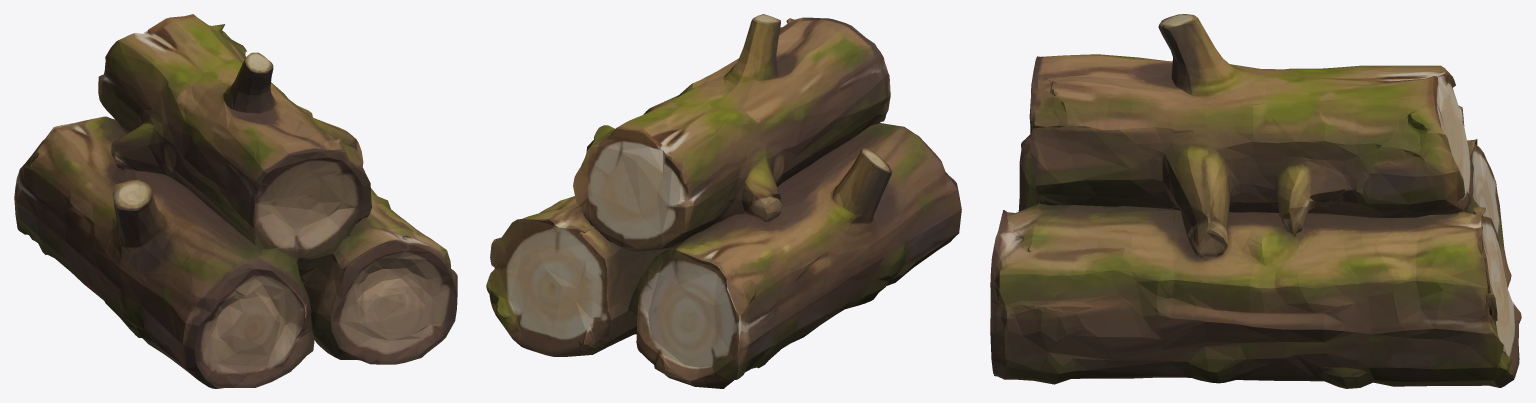
File: logs.glb
The picture shows the model from 3 angles, left to right: view 1: azimuth 30°, elevation 25°; view 2: azimuth 150°, elevation 25°; view 3: azimuth 270°, elevation 25°; orthographic projection. The views are drawn at different scales.
Visible parts, largest first — view 1: world; view 2: world; view 3: world.
Boxes of the visible parts, box(x1,y1,x2,y2) form: world: box(14, 14, 457, 388); world: box(486, 14, 961, 388); world: box(990, 14, 1521, 388).
Size of the model in its own units: 0.6276 by 0.5635 by 0.8663.
1 material, 1 textured.
